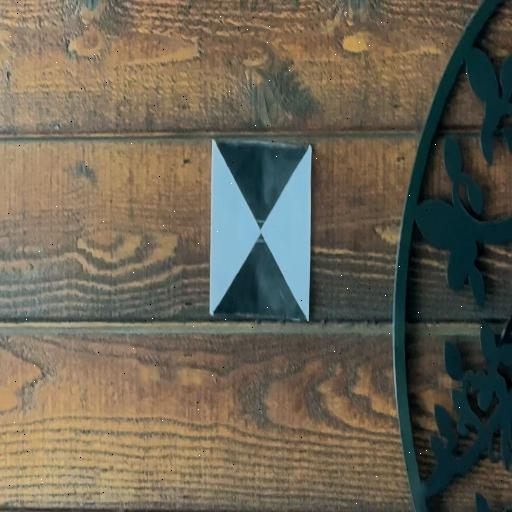target: (212, 139, 310, 321)
